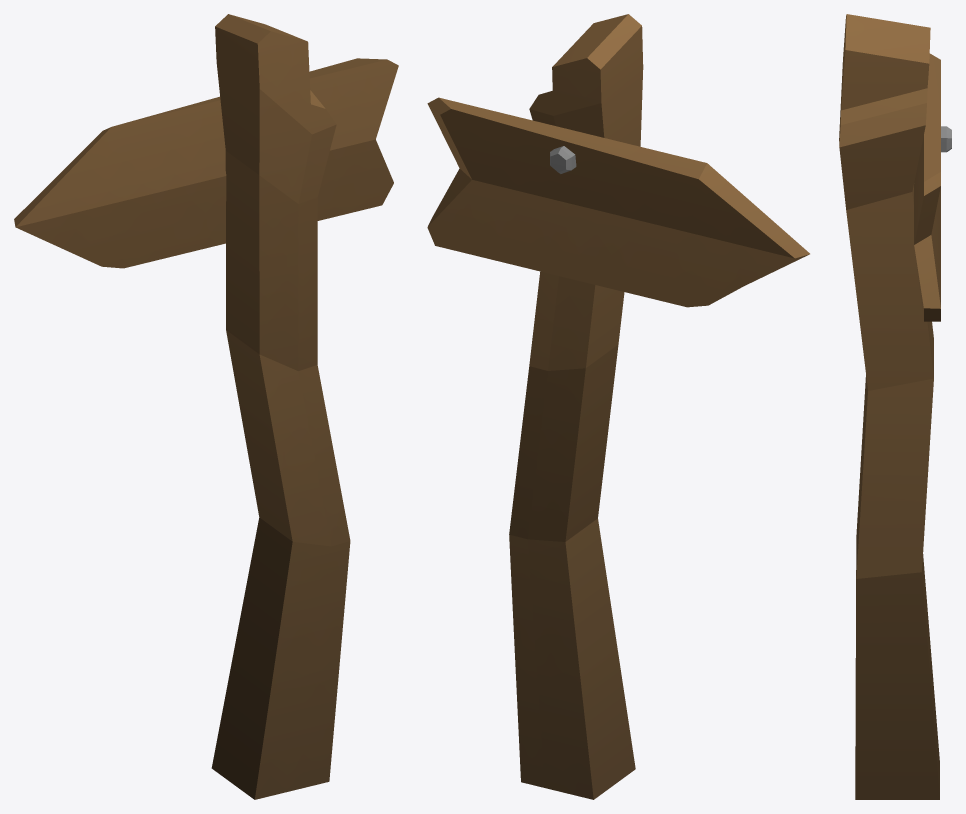
Rendered from SignPost.fbx.
3 renders of one model, left to right at view 1: azimuth 30°, elevation 25°; view 2: azimuth 150°, elevation 25°; view 3: azimuth 270°, elevation 25°, orthographic. The views are drawn at different scales.
Visible parts, largest first — view 1: Cube.028; view 2: Cube.028; view 3: Cube.028.
Boxes of the visible parts, x1,y1,x2,y2 form: Cube.028: (14,14,398,799); Cube.028: (427,14,809,799); Cube.028: (839,14,951,799).
Bounding box in the file's own units: 197 × 373 × 50.41.
